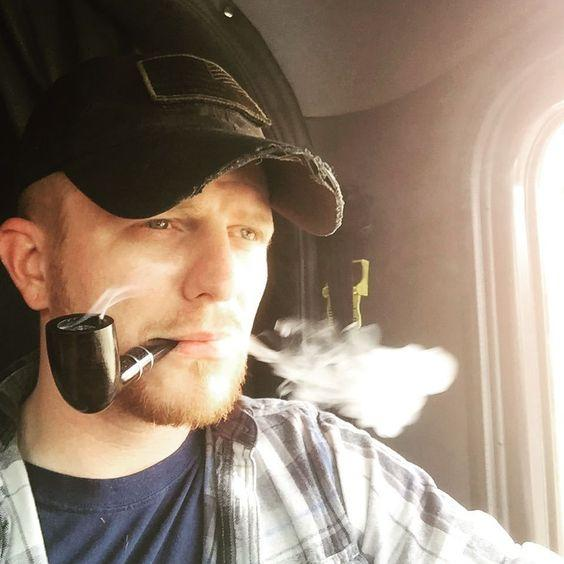trubka: (47, 314, 177, 413)
